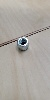Nut: (14, 35, 32, 54)
